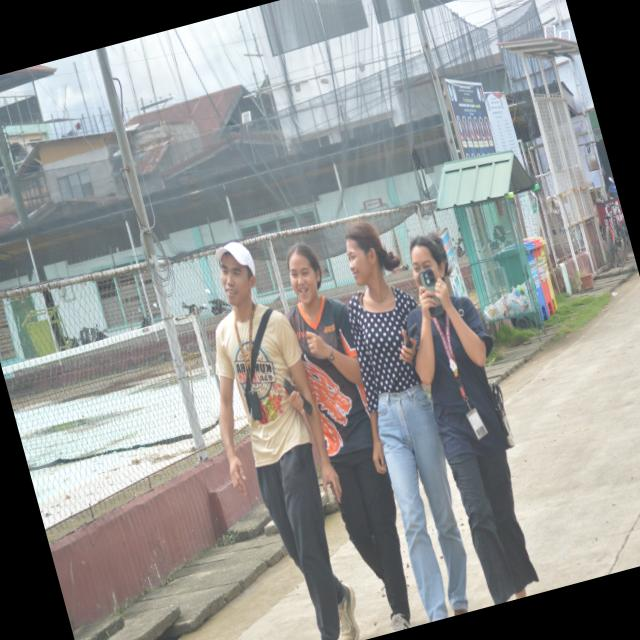person: (215, 242, 358, 639), (345, 222, 467, 621), (407, 234, 537, 604), (286, 244, 409, 631)
